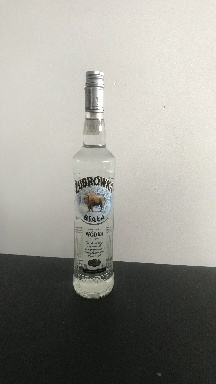butelka: (70, 67, 116, 302)
